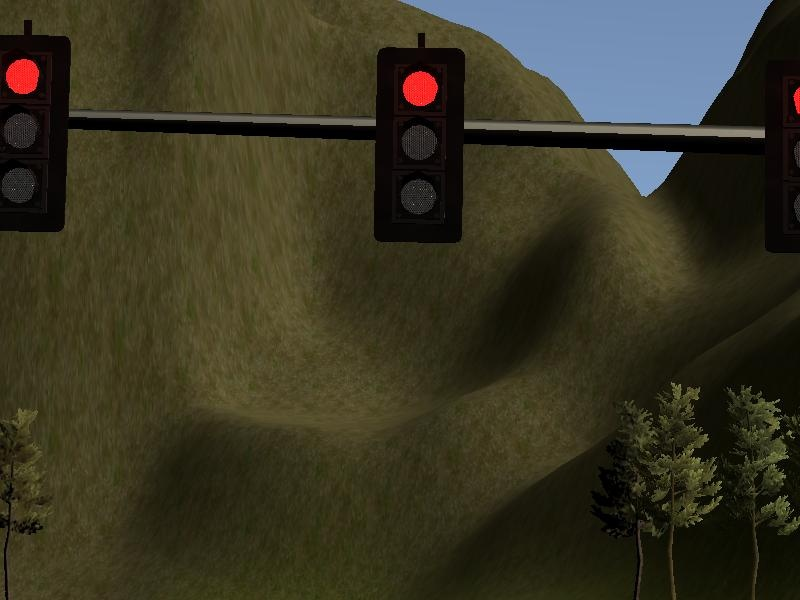red: (368, 40, 464, 246), (2, 33, 71, 235), (760, 71, 800, 259)
